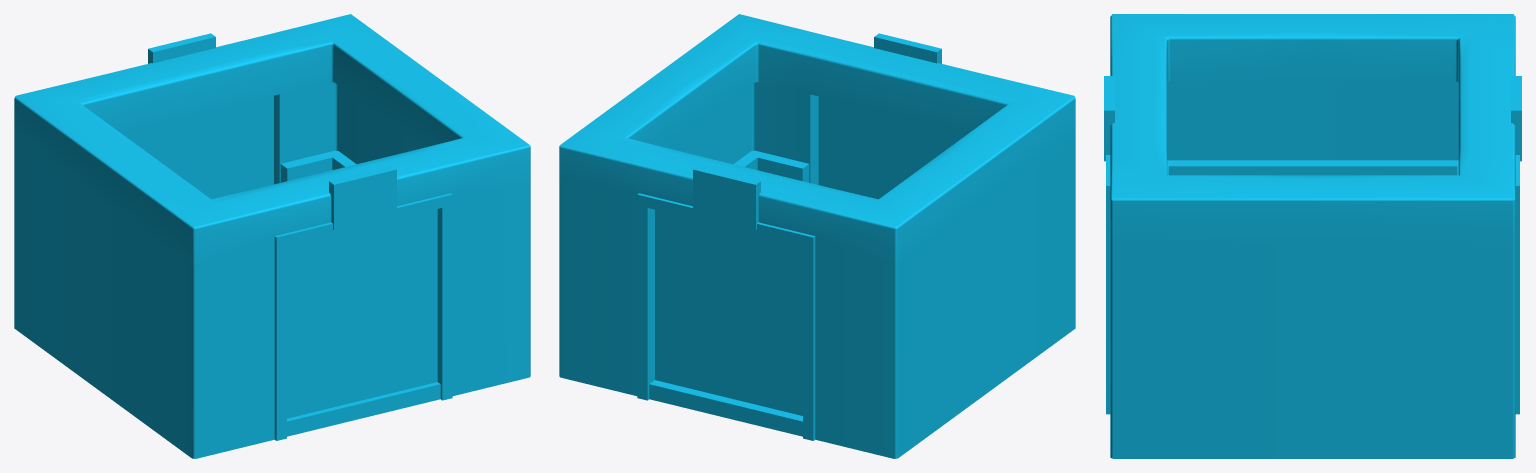
File: SM_Elevator.FBX
3 views of the same model, side by side, from view 1: azimuth 30°, elevation 25°; view 2: azimuth 150°, elevation 25°; view 3: azimuth 270°, elevation 25° (orthographic). The views are drawn at different scales.
Visible parts, largest first — view 1: Elevator Box, ElevatorDoorR, ElevatorDoorL, ElevatorDoorR001, ElevatorDoorL001; view 2: Elevator Box, ElevatorDoorR001, ElevatorDoorL001, ElevatorDoorR, ElevatorDoorL; view 3: Elevator Box.
Boxes of the visible parts, bbox=[...] form: Elevator Box: bbox=[14, 14, 530, 458]; ElevatorDoorR: bbox=[359, 209, 437, 400]; ElevatorDoorL: bbox=[287, 228, 359, 418]; ElevatorDoorR001: bbox=[196, 96, 273, 199]; ElevatorDoorL001: bbox=[124, 115, 196, 187]; Elevator Box: bbox=[559, 14, 1075, 458]; ElevatorDoorR001: bbox=[655, 209, 732, 398]; ElevatorDoorL001: bbox=[733, 228, 802, 415]; ElevatorDoorR: bbox=[818, 96, 896, 199]; ElevatorDoorL: bbox=[896, 115, 965, 185]; Elevator Box: bbox=[1104, 14, 1521, 458].
Bounding box in the file's own units: 197 × 135 × 187.
